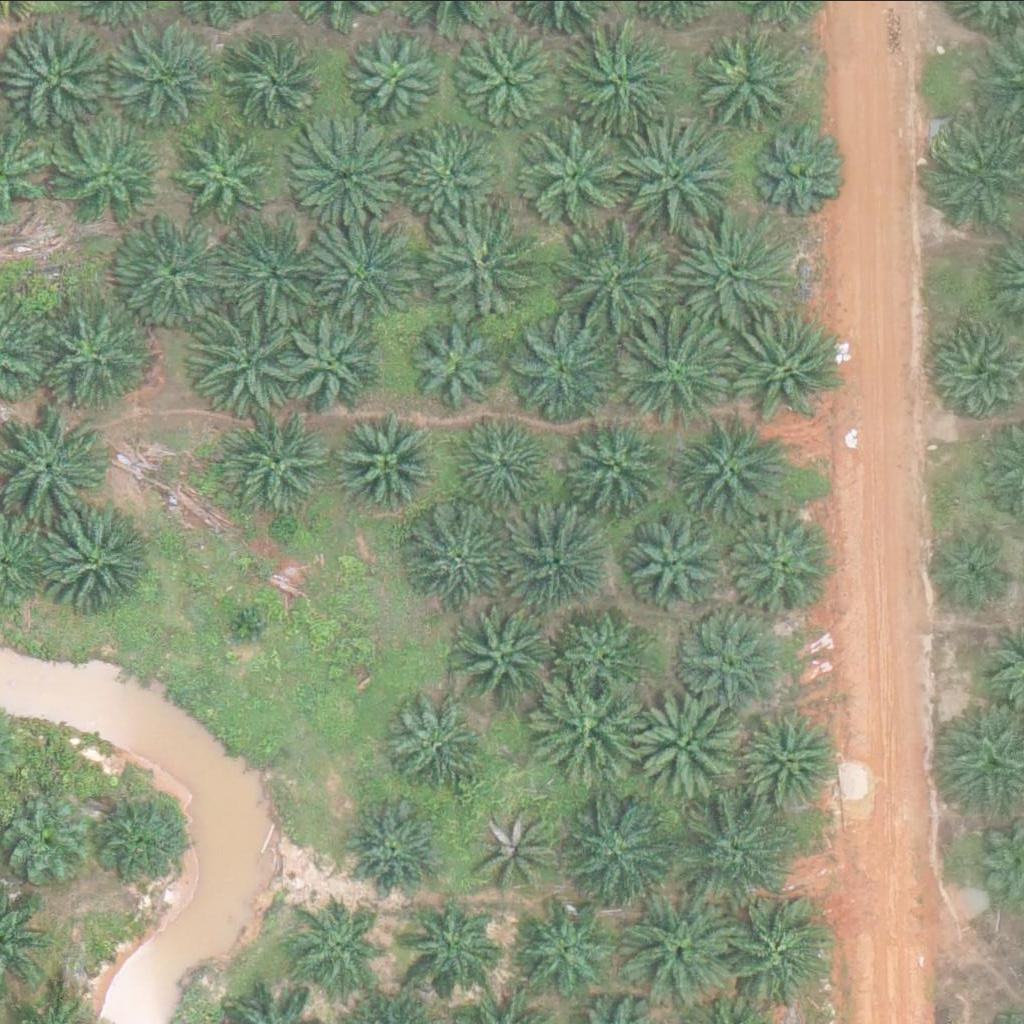Kelapa_Sawit: (289, 119, 403, 232), (305, 210, 419, 323), (682, 216, 796, 329), (622, 319, 736, 432), (723, 503, 837, 616), (675, 416, 789, 529), (5, 18, 118, 131), (563, 24, 676, 137), (524, 114, 637, 227), (423, 205, 536, 318), (44, 505, 157, 618), (502, 504, 615, 617), (723, 892, 836, 1005), (52, 114, 166, 226), (506, 313, 620, 425), (700, 23, 813, 135), (621, 113, 734, 225), (127, 213, 240, 325), (556, 224, 669, 336), (733, 308, 846, 420), (35, 302, 148, 414), (183, 302, 296, 414), (446, 600, 559, 712), (529, 677, 642, 789), (627, 690, 740, 802), (682, 788, 795, 900), (561, 792, 674, 904), (623, 894, 736, 1006), (121, 25, 222, 125), (461, 30, 562, 130), (176, 124, 277, 224), (411, 313, 512, 413), (281, 312, 382, 412), (632, 511, 733, 611), (676, 610, 777, 710), (387, 696, 488, 796), (407, 900, 508, 1000), (235, 33, 335, 133), (408, 122, 508, 222), (224, 222, 324, 322), (232, 411, 332, 511), (341, 410, 441, 510), (457, 410, 557, 510), (573, 414, 673, 514), (417, 508, 517, 608), (739, 711, 839, 811), (89, 790, 189, 890), (342, 799, 442, 899), (511, 900, 611, 1000), (355, 32, 444, 120), (927, 524, 1015, 612), (560, 612, 648, 700), (762, 130, 850, 217), (473, 803, 561, 890), (303, 901, 391, 988), (219, 603, 270, 653)
